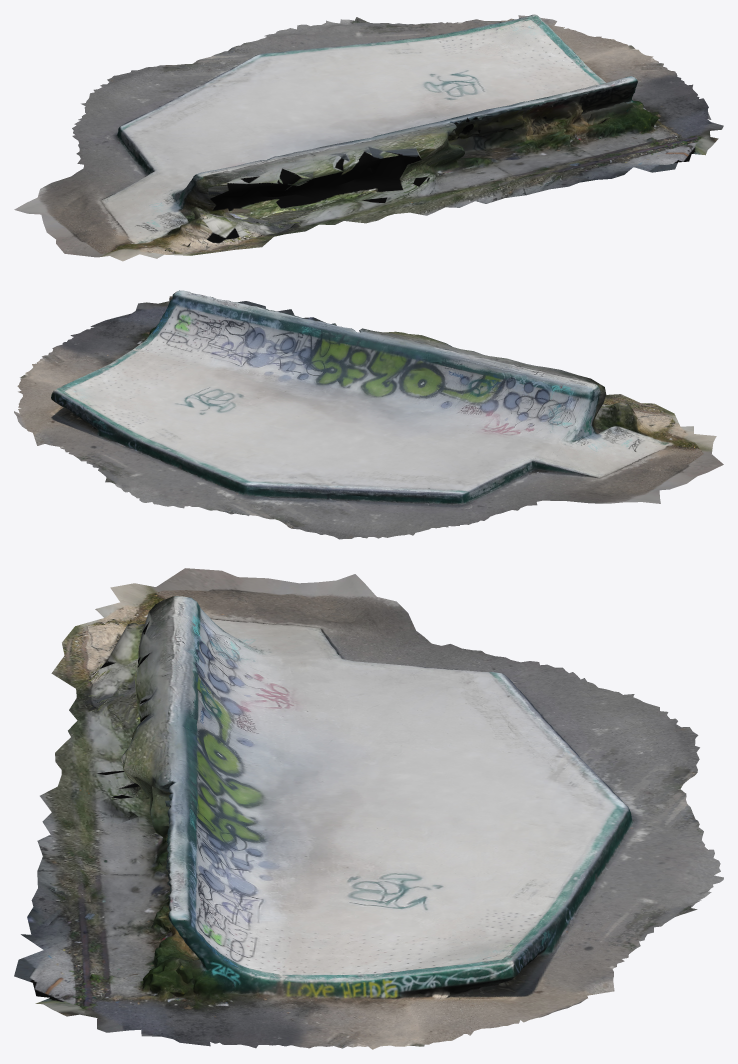
The model's file is VANSDALIZED PARK.glb.
3 renders of one model, top to bottom at view 1: azimuth 30°, elevation 25°; view 2: azimuth 150°, elevation 25°; view 3: azimuth 270°, elevation 25°, orthographic. The views are drawn at different scales.
Parts seen in each view (by area): view 1: Model; view 2: Model; view 3: Model.
Boxes of the visible parts, x1,y1,x2,y2 form: Model: [14, 14, 723, 261]; Model: [14, 290, 723, 539]; Model: [14, 568, 723, 1049].
Size of the model in its own units: 157 by 13.6 by 100.
Materials: 1 (1 with a texture image).
